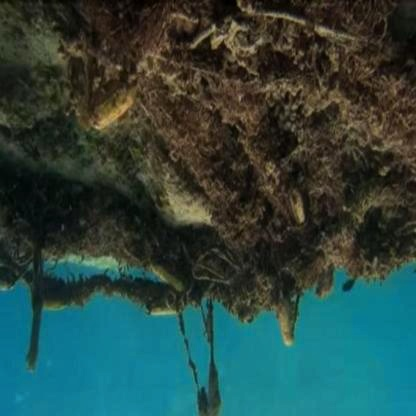net: (162, 52, 416, 360)
